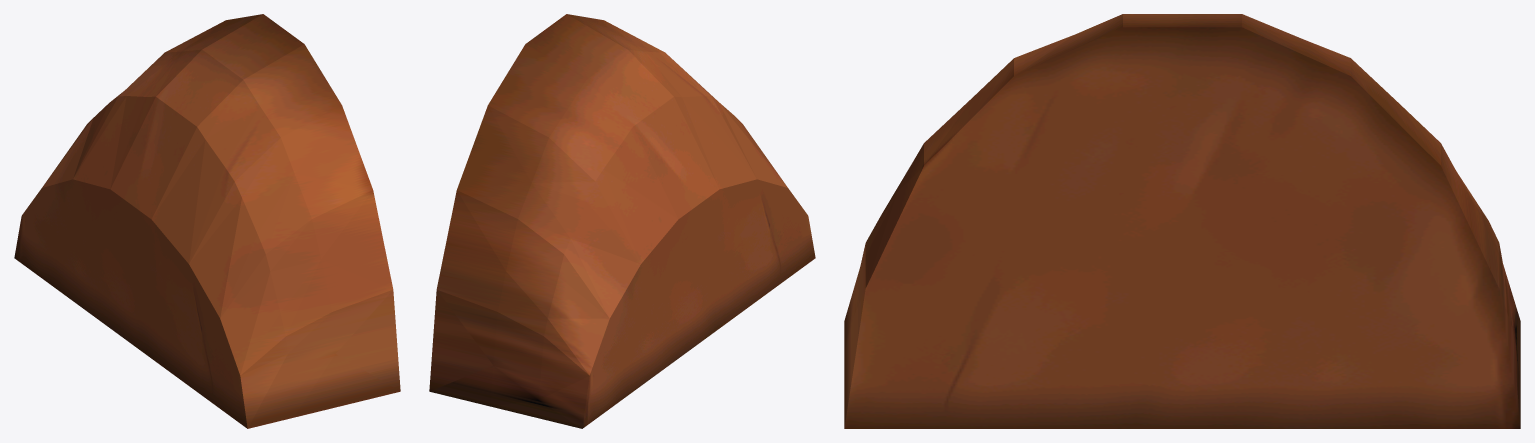
The model's file is MillEng.glb.
3 renders of one model, left to right at view 1: azimuth 30°, elevation 25°; view 2: azimuth 150°, elevation 25°; view 3: azimuth 270°, elevation 25°, orthographic. The views are drawn at different scales.
Parts seen in each view (by area): view 1: MillEng; view 2: MillEng; view 3: MillEng.
Boxes of the visible parts, box(x1,y1,x2,y2) form: MillEng: box(14, 14, 400, 428); MillEng: box(429, 14, 815, 428); MillEng: box(844, 14, 1520, 428).
Size of the model in its own units: 113 by 195 by 298.
Materials: 1 (1 with a texture image).
